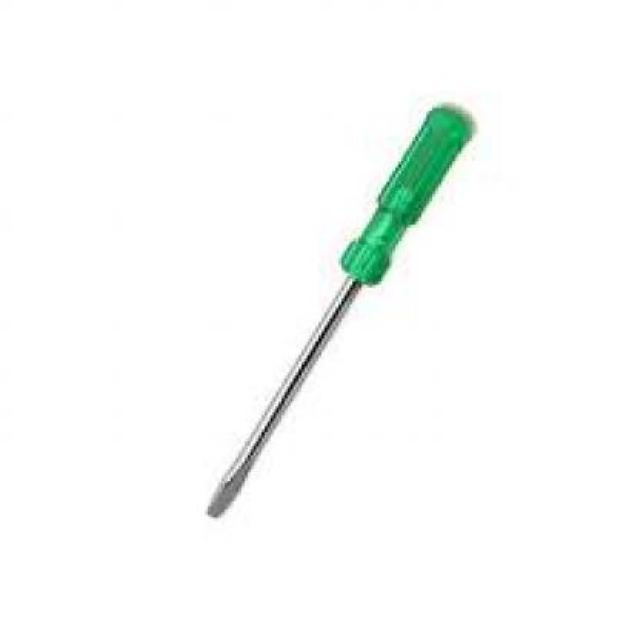screwdriver: (202, 108, 476, 521)
